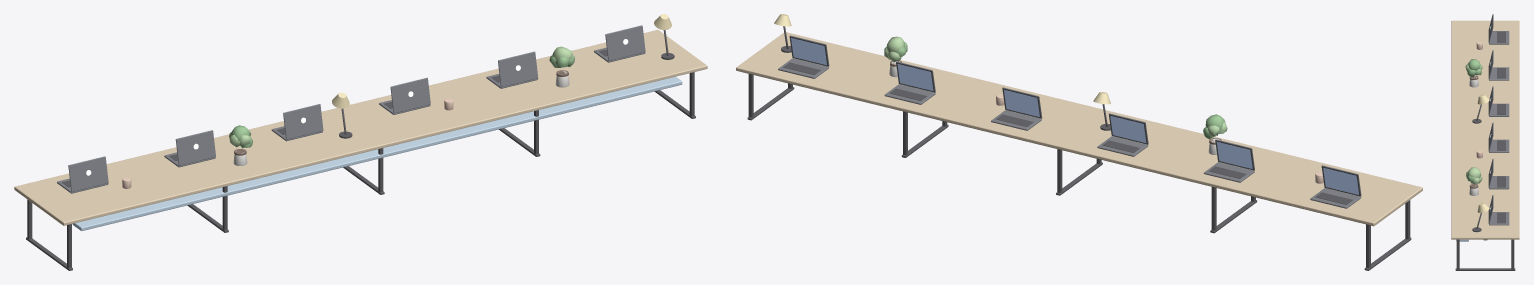
File: cooking.glb
The picture shows the model from 3 angles, left to right: view 1: azimuth 30°, elevation 25°; view 2: azimuth 150°, elevation 25°; view 3: azimuth 270°, elevation 25°; orthographic projection. The views are drawn at different scales.
Parts seen in each view (by area): view 1: cooking_oak, cooking_graphite, cooking_sky, cooking_black, cooking_leaf, cooking_butter, cooking_leaf_light; view 2: cooking_oak, cooking_black, cooking_graphite, desk screen#1, desk screen#0, desk screen#2, desk screen#3, desk screen#4, desk screen#5, cooking_leaf_light; view 3: cooking_oak, cooking_graphite, cooking_black, cooking_leaf, cooking_leaf_light, cooking_butter, cooking_white, cooking_peach, cooking_soil.
Part boxes in pixels (x1,y1,x2,y2): cooking_oak: (14,29,707,225); cooking_graphite: (57,25,645,193); cooking_sky: (72,76,682,230); cooking_black: (26,30,695,270); cooking_leaf: (230,55,574,148); cooking_butter: (332,14,671,108); cooking_leaf_light: (229,46,572,146); cooking_oak: (736,32,1422,226); cooking_black: (747,26,1411,270); cooking_graphite: (778,35,1361,208); desk screen#1: (1216,142,1252,168); desk screen#0: (1323,168,1358,194); desk screen#2: (1110,116,1146,142); desk screen#3: (1004,90,1039,116); desk screen#4: (897,64,933,90); desk screen#5: (791,38,826,65); cooking_leaf_light: (884,36,1227,136); cooking_oak: (1451,20,1519,239); cooking_graphite: (1488,14,1509,225); cooking_black: (1455,31,1515,270); cooking_leaf: (1466,59,1481,181); cooking_leaf_light: (1465,63,1482,184); cooking_butter: (1477,94,1489,212); cooking_white: (1469,76,1478,195); cooking_peach: (1476,41,1482,158); cooking_soil: (1469,75,1478,188).
Bounding box in the file's own units: 9 × 1.23 × 1.2.
